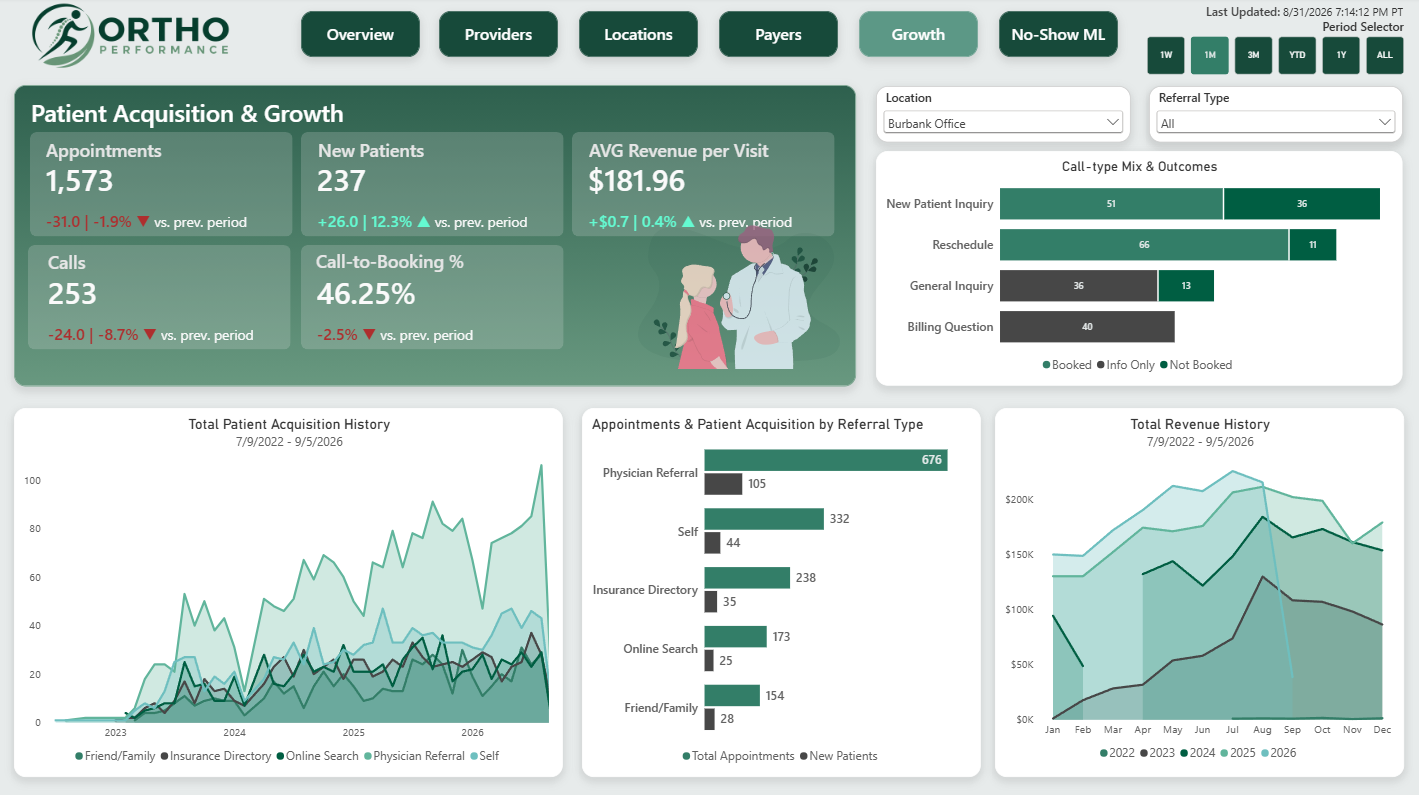

What the dashboard file says about the page in this screenshot:
{"tool":"powerbi","page":{"name":"Page 2","canvas":[1920,1080],"ordinal":1},"visuals":[{"type":"image","box":[24.2,18.1,294.8,104.8],"z":0},{"type":"cardVisual","fields":{"Data":["_Measures.Last Updated At"]},"box":[1704.1,19.4,202.6,34.8],"z":0,"group":"g1"},{"type":"textbox","box":[1616.1,18.1,116.4,39.3],"z":1000,"group":"g1"},{"type":"cardVisual","fields":{"Data":["_Measures.Max Overall Date"]},"box":[1637.2,102.8,202.6,34.8],"z":1000,"group":"g2"},{"type":"textbox","box":[415.7,18.1,190.1,62.9],"z":2000},{"type":"textbox","box":[1504.5,100.9,184.6,39.3],"z":3000,"group":"g2"},{"type":"textbox","box":[641,18.1,190.1,62.9],"z":4000},{"type":"textbox","box":[1313.8,18.1,190.1,62.9],"z":5000},{"type":"textbox","box":[864.8,18.1,190.1,62.9],"z":6000},{"type":"textbox","box":[1090,18.1,190.1,62.9],"z":7000},{"type":"group","id":"g1","title":"Group 1","box":[1616.1,18.1,291.8,39.3],"z":8000},{"type":"shape","box":[606.2,0,34.8,104.3],"z":9000},{"type":"shape","box":[1279,0,34.8,104.3],"z":10000},{"type":"lineChart","fields":{"Category":["Date.Calendar.Year","Date.Calendar.Month"],"Y":["_Measures.Total Revenue"]},"box":[24.4,495.4,908,557.2],"z":11000},{"type":"shape","box":[0,0,24.4,104],"z":12000},{"type":"shape","box":[1895.6,0,24.4,104],"z":13000},{"type":"cardVisual","fields":{"Data":["_Measures.Total Appointments"]},"box":[792.7,269.6,334.6,181.9],"z":14000},{"type":"cardVisual","fields":{"Data":["_Measures.Total Revenue"]},"box":[24.4,269.6,334.6,181.9],"z":15000},{"type":"cardVisual","fields":{"Data":["_Measures.No-Show Rate"]},"box":[1169.5,269.6,334.6,181.9],"z":16000},{"type":"cardVisual","fields":{"Data":["_Measures.New Patient Conversion"]},"box":[1561,269.6,334.6,181.9],"z":17000},{"type":"cardVisual","fields":{"Data":["_Measures.Total RVU"]},"box":[415.8,269.6,334.6,181.9],"z":18000},{"type":"columnChart","fields":{"Category":["public locations.location_name"],"Y":["_Measures.Total Revenue"]},"box":[987.6,495.4,908,557.2],"z":19000},{"type":"advancedSlicerVisual","fields":{"Values":["Selected Period.Period"]},"box":[1378.8,170.5,516.4,49.7],"z":20000},{"type":"cardVisual","fields":{"Data":["_Measures.Selected Period"]},"box":[416,134,190,150],"z":21000},{"type":"cardVisual","fields":{"Data":["_Measures.Previous Selected Min Date"]},"box":[11.8,19.1,482.3,219.2],"z":22000},{"type":"cardVisual","fields":{"Data":["_Measures.Previous Selected Max Date"]},"box":[571.3,29.4,482.3,219.2],"z":23000},{"type":"cardVisual","fields":{"Data":["_Measures.Selected Min Date"]},"box":[849.7,270.1,482.3,219.2],"z":24000},{"type":"cardVisual","fields":{"Data":["_Measures.Max Overall Date"]},"box":[1357.5,275.3,482.3,219.2],"z":25000},{"type":"cardVisual","fields":{"Data":["_Measures.Total Revenue (Period)"]},"box":[945.3,86.9,334.6,181.9],"z":25001},{"type":"cardVisual","fields":{"Data":["_Measures.Total Revenue (Prior Period)"]},"box":[288.9,603.5,334.6,181.9],"z":25002},{"type":"cardVisual","fields":{"Data":["_Measures.Total Revenue (Period) % Change"]},"box":[1128.4,482.1,334.6,181.9],"z":25003},{"type":"cardVisual","fields":{"Data":["_Measures.Total Revenue"]},"box":[793.3,584.7,471.9,273.6],"z":25004},{"type":"card","box":[100,100,300,300],"z":25005},{"type":"card","box":[110,110,300,300],"z":25006},{"type":"card","fields":{"Values":["_Measures.No-Show Rate (Period) KPI Label"]},"box":[100,100,300,300],"z":25007},{"type":"group","id":"g2","title":"Group 2","box":[1504.5,100.9,335.3,39.3],"z":25008},{"type":"lineClusteredColumnComboChart","fields":{"Category":["Date.Date"],"Y":["_Measures.Total Revenue"]},"box":[109.4,177.8,908,557.2],"z":25009},{"type":"card","fields":{"Values":["_Measures.Total Revenue (Period)"]},"box":[511.2,162.4,447.9,198.3],"z":25010},{"type":"columnChart","fields":{"Category":["public locations.location_name"],"Y":["_Measures.Total Revenue (Period)"]},"box":[1012.1,300.9,908,557.2],"z":25011}]}

Visuals, with their boxes in screenshot pixels (x1, y1, x2, y2), scaled from the page's 1920x1080 canvas onto the 1419x795 screenshot:
image: <box>18,13,236,90</box>
cardVisual - _Measures.Last Updated At: <box>1259,14,1409,40</box>
textbox: <box>1194,13,1280,42</box>
cardVisual - _Measures.Max Overall Date: <box>1210,76,1360,101</box>
textbox: <box>307,13,448,60</box>
textbox: <box>1112,74,1248,103</box>
textbox: <box>474,13,614,60</box>
textbox: <box>971,13,1111,60</box>
textbox: <box>639,13,780,60</box>
textbox: <box>806,13,946,60</box>
"Group 1" group: <box>1194,13,1410,42</box>
shape: <box>448,0,474,77</box>
shape: <box>945,0,971,77</box>
lineChart - Date.Calendar.Year x Date.Calendar.Month: <box>18,365,689,775</box>
shape: <box>0,0,18,77</box>
shape: <box>1401,0,1418,77</box>
cardVisual - _Measures.Total Appointments: <box>586,198,833,332</box>
cardVisual - _Measures.Total Revenue: <box>18,198,265,332</box>
cardVisual - _Measures.No-Show Rate: <box>864,198,1112,332</box>
cardVisual - _Measures.New Patient Conversion: <box>1154,198,1401,332</box>
cardVisual - _Measures.Total RVU: <box>307,198,555,332</box>
columnChart - public locations.location_name x _Measures.Total Revenue: <box>730,365,1401,775</box>
advancedSlicerVisual - Selected Period.Period: <box>1019,126,1401,162</box>
cardVisual - _Measures.Selected Period: <box>307,99,448,209</box>
cardVisual - _Measures.Previous Selected Min Date: <box>9,14,365,175</box>
cardVisual - _Measures.Previous Selected Max Date: <box>422,22,779,183</box>
cardVisual - _Measures.Selected Min Date: <box>628,199,984,360</box>
cardVisual - _Measures.Max Overall Date: <box>1003,203,1360,364</box>
cardVisual - _Measures.Total Revenue (Period): <box>699,64,946,198</box>
cardVisual - _Measures.Total Revenue (Prior Period): <box>214,444,461,578</box>
cardVisual - _Measures.Total Revenue (Period) % Change: <box>834,355,1081,489</box>
cardVisual - _Measures.Total Revenue: <box>586,430,935,632</box>
card: <box>74,74,296,294</box>
card: <box>81,81,303,302</box>
card - _Measures.No-Show Rate (Period) KPI Label: <box>74,74,296,294</box>
"Group 2" group: <box>1112,74,1360,103</box>
lineClusteredColumnComboChart - Date.Date x _Measures.Total Revenue: <box>81,131,752,541</box>
card - _Measures.Total Revenue (Period): <box>378,120,709,266</box>
columnChart - public locations.location_name x _Measures.Total Revenue (Period): <box>748,221,1418,632</box>
